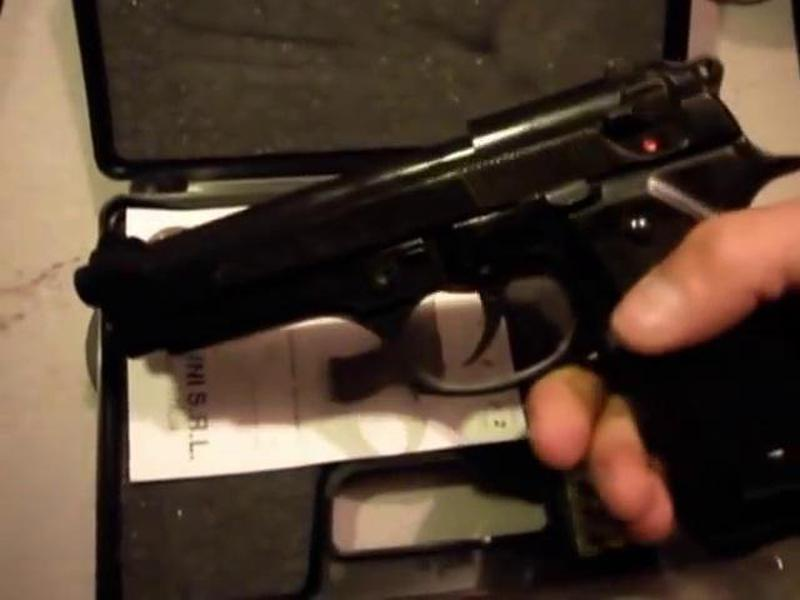Pistola: (80, 11, 800, 542)
